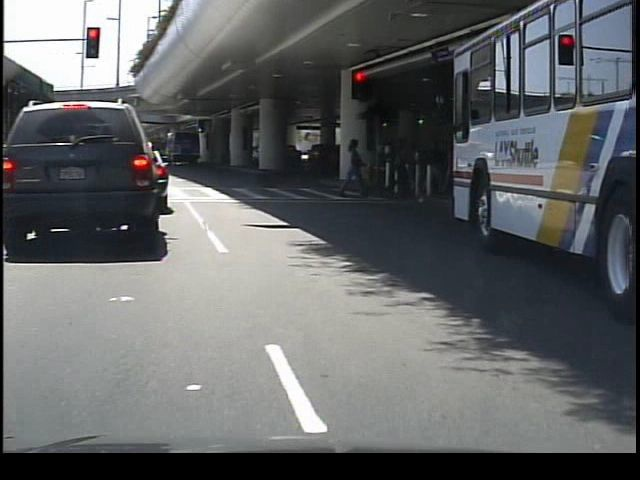person: (338, 136, 371, 201)
